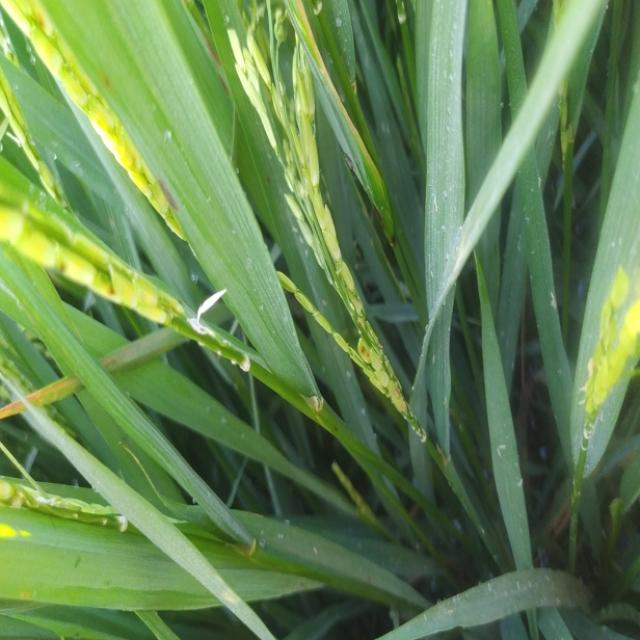Brown spot: (0, 389, 66, 424)
insects: (154, 180, 180, 212), (94, 66, 119, 96), (16, 590, 34, 604)
